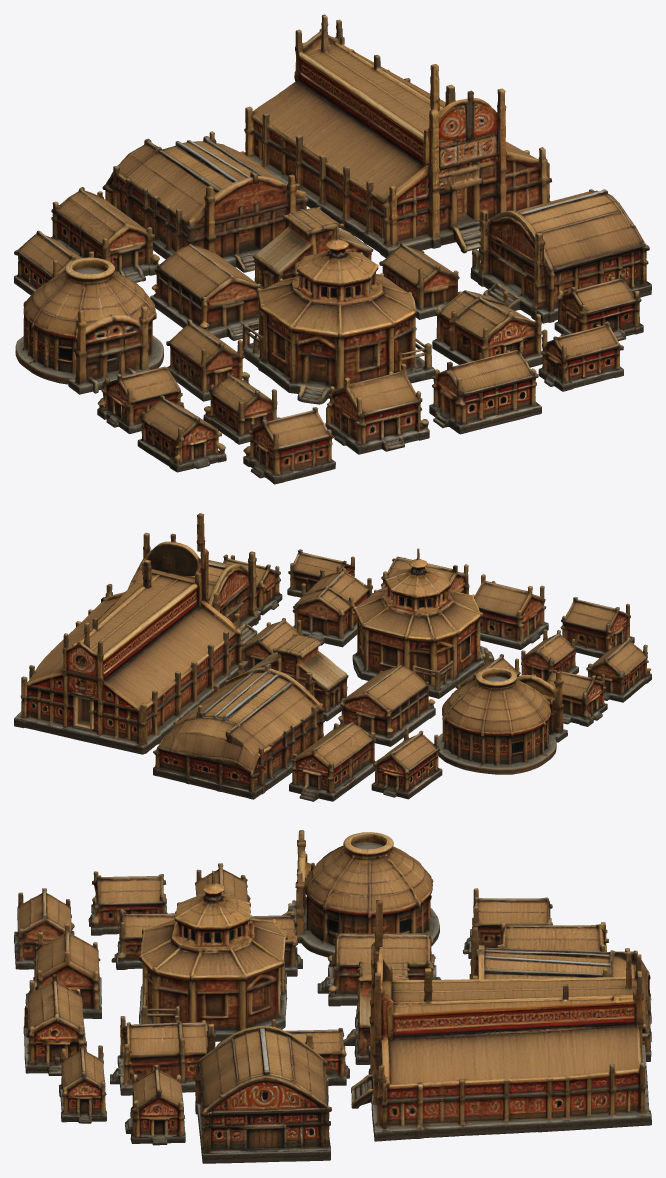
Rendered from Enlightenment Town (North American Native).fbx.
3 views of the same model, one above another, from view 1: azimuth 30°, elevation 25°; view 2: azimuth 150°, elevation 25°; view 3: azimuth 270°, elevation 25° (orthographic). The views are drawn at different scales.
Parts seen in each view (by area): view 1: tripo_node_fd3e74cb; view 2: tripo_node_fd3e74cb; view 3: tripo_node_fd3e74cb.
Boxes of the visible parts, x1,y1,x2,y2 form: tripo_node_fd3e74cb: (14,14,651,484); tripo_node_fd3e74cb: (14,513,651,801); tripo_node_fd3e74cb: (14,830,651,1163).
Size of the model in its own units: 0.9913 by 0.36 by 1.
